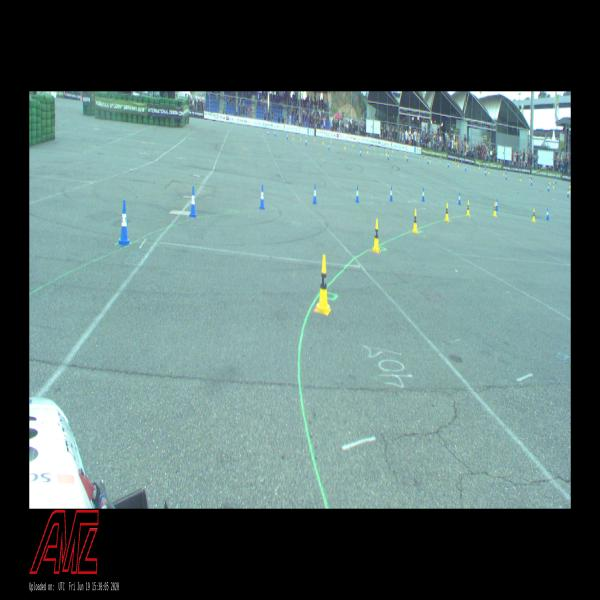blue_cone: (118, 201, 129, 245), (189, 187, 196, 217), (260, 185, 264, 209), (313, 185, 317, 204), (356, 185, 360, 202), (546, 208, 549, 220), (458, 193, 461, 204), (390, 186, 392, 200), (422, 188, 424, 201), (496, 199, 498, 211), (567, 189, 569, 197), (328, 143, 330, 150), (388, 152, 389, 160), (530, 174, 532, 178), (422, 152, 424, 156), (356, 141, 358, 145), (360, 149, 361, 156), (428, 157, 429, 164), (448, 161, 449, 168), (465, 165, 466, 171), (531, 179, 532, 185), (548, 185, 549, 191), (506, 173, 507, 179), (407, 155, 408, 161), (287, 133, 288, 139), (505, 168, 506, 174), (369, 142, 370, 148), (274, 130, 275, 136), (301, 132, 302, 137), (485, 170, 486, 174), (461, 160, 462, 164), (384, 145, 385, 149), (267, 130, 268, 134), (441, 156, 442, 160), (485, 166, 485, 170), (306, 138, 306, 145), (276, 130, 276, 136), (269, 130, 269, 135), (556, 178, 556, 184)
yellow_cone: (317, 255, 330, 313), (373, 219, 380, 252), (412, 209, 418, 233), (445, 203, 449, 221), (466, 201, 470, 216), (493, 202, 496, 216), (532, 208, 534, 221), (404, 151, 406, 158), (529, 174, 531, 181), (549, 178, 551, 184), (457, 161, 459, 167), (344, 143, 346, 149), (322, 138, 324, 144), (352, 141, 354, 147), (424, 154, 426, 159), (406, 151, 408, 156), (569, 186, 570, 194), (330, 138, 332, 142), (367, 148, 368, 154), (488, 168, 489, 174), (386, 149, 387, 155), (553, 182, 554, 188), (520, 174, 521, 180), (503, 170, 504, 176), (314, 136, 315, 142), (306, 136, 307, 142), (570, 181, 571, 187), (373, 145, 374, 150), (480, 164, 481, 169), (455, 159, 456, 164), (392, 147, 393, 152), (300, 135, 301, 140), (292, 134, 293, 139), (430, 157, 430, 162), (440, 157, 440, 162), (294, 134, 294, 139)
